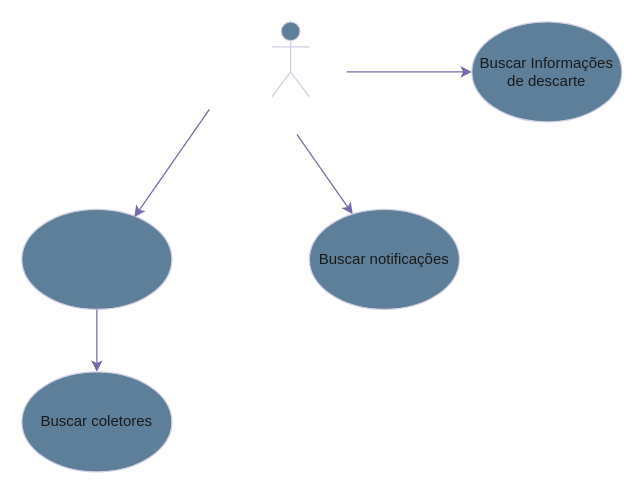
This 644x494 diagram has some shape labels left out. Each missing label, with the centre of its shape:
"Usuário logado" goes at point (290, 59).
"Visualizar mapa" goes at point (96, 258).
